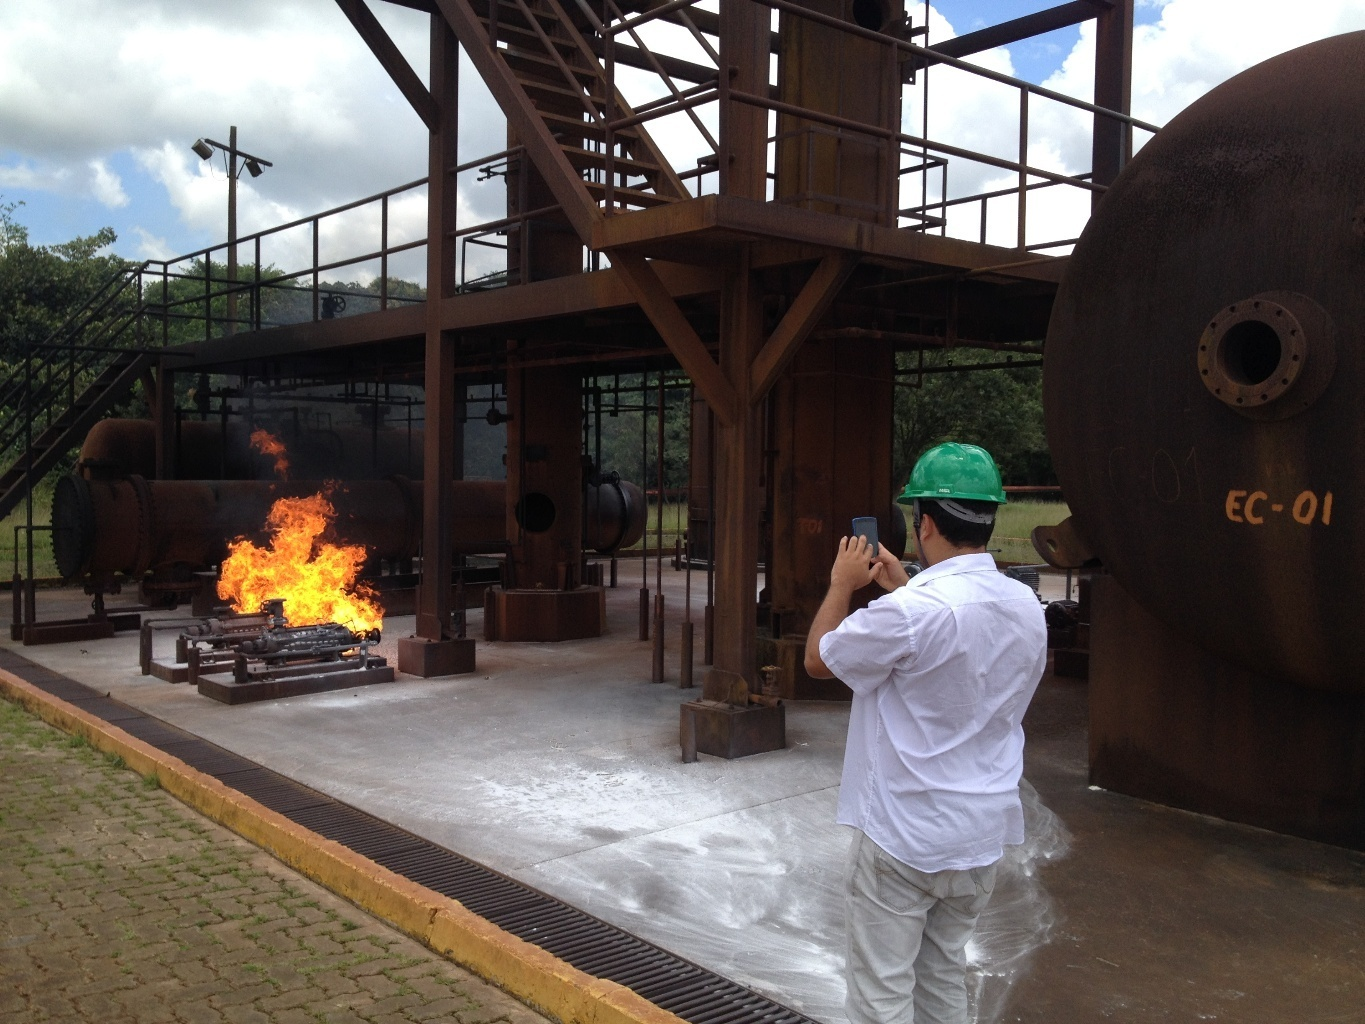fire: (217, 490, 385, 648)
